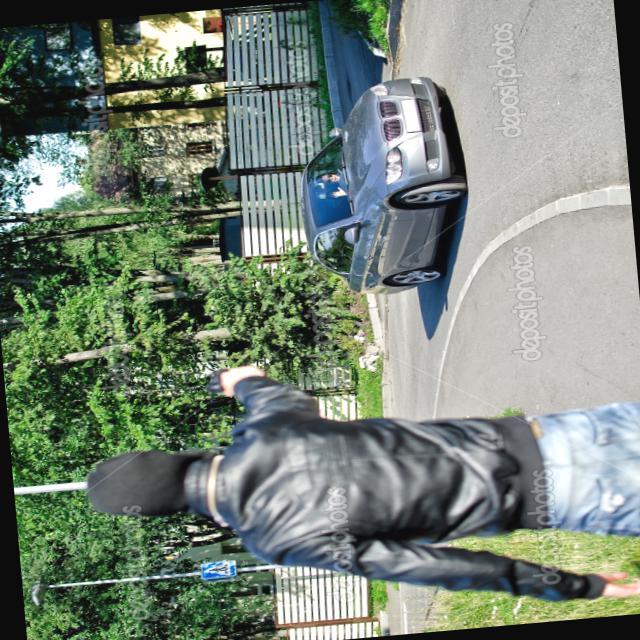handgun: (192, 348, 278, 405)
